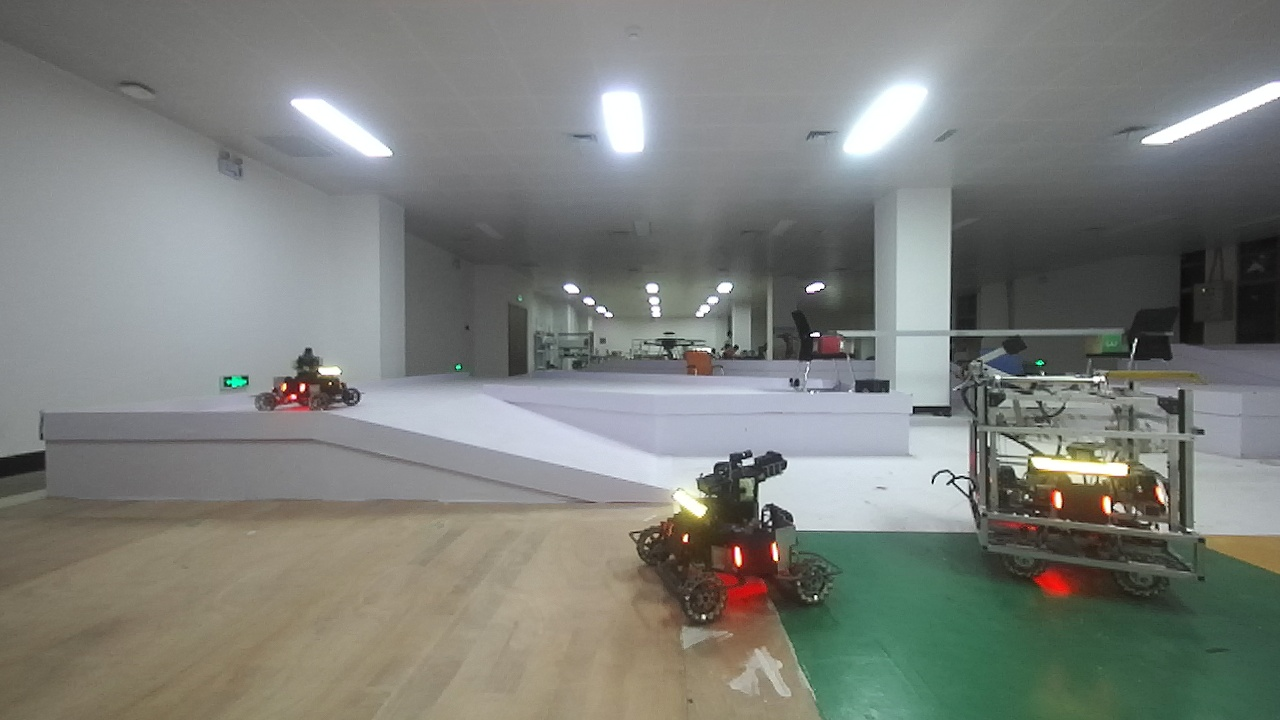car: (959, 357, 1223, 605), (619, 436, 855, 634), (252, 342, 368, 427)
